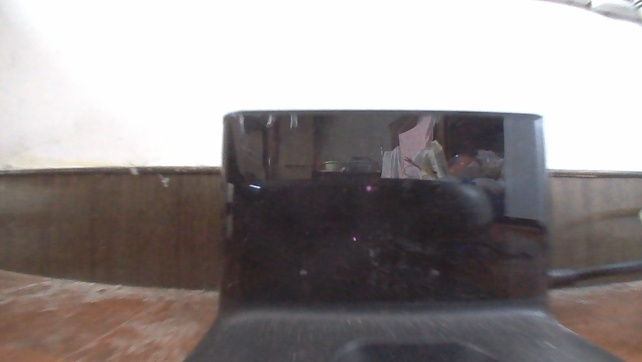charger: (164, 104, 635, 361)
wire: (546, 257, 637, 292)
